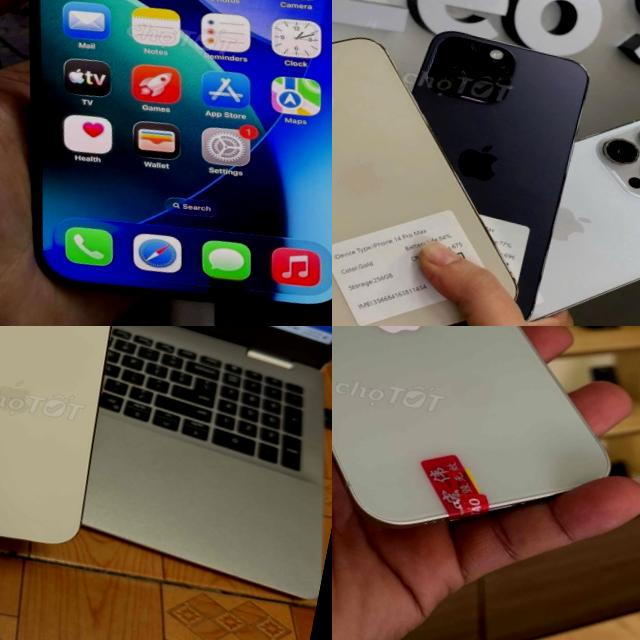gen_14: (332, 4, 562, 326)
gen_15: (0, 0, 332, 326), (332, 326, 640, 565)
gen_17: (0, 326, 139, 567)
